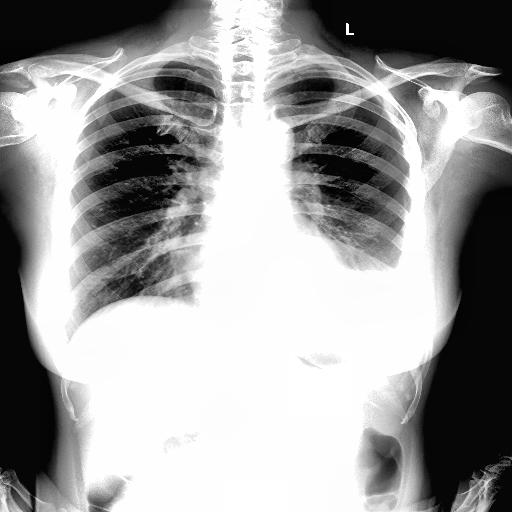10- Pleural effusion: (346, 236, 424, 326), (344, 236, 420, 326), (334, 236, 422, 309)
7- Lung Opacity: (343, 246, 407, 286)
